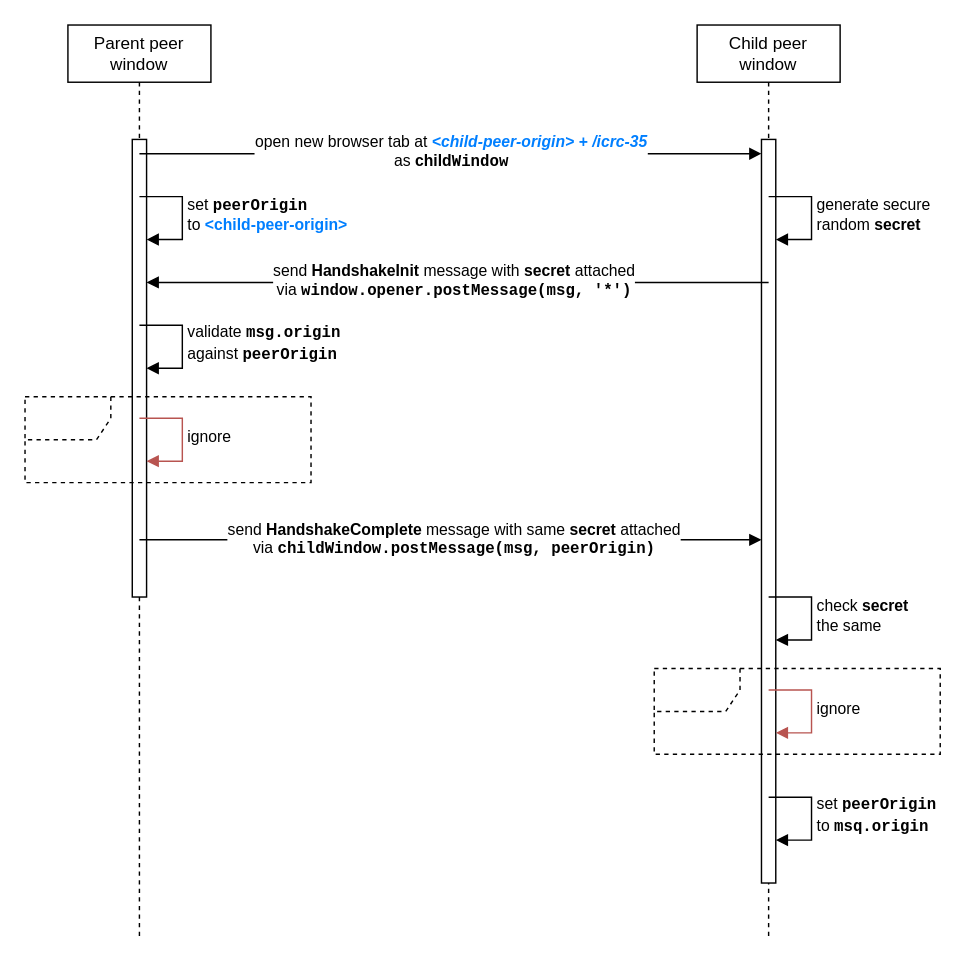
This 965x965 diagram has some shape labels left out. The shapes that lost their labels are listed below. From the top down, each one's centre as x and y in pixels, then its label:
point (167, 439): invalid origin
point (796, 710): invalid secret
